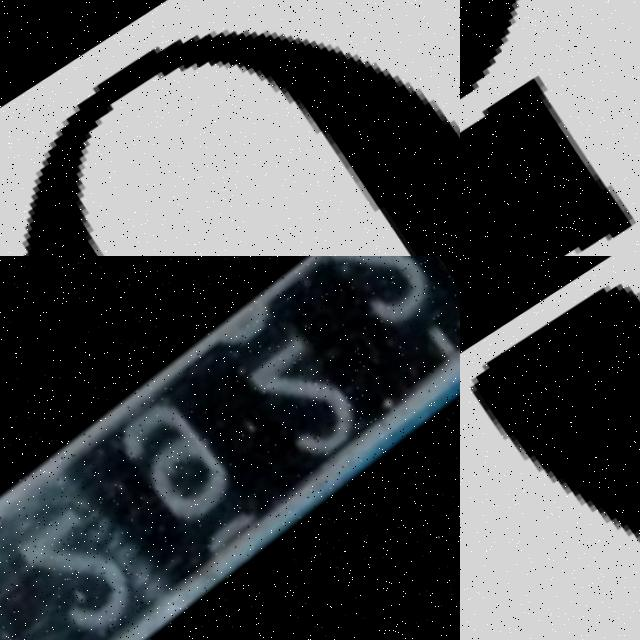2: (219, 318, 391, 498), (0, 480, 155, 640), (298, 256, 456, 362)
5: (460, 0, 640, 256)
7: (460, 256, 640, 640)
9: (82, 378, 254, 558)
O: (13, 29, 460, 256)
